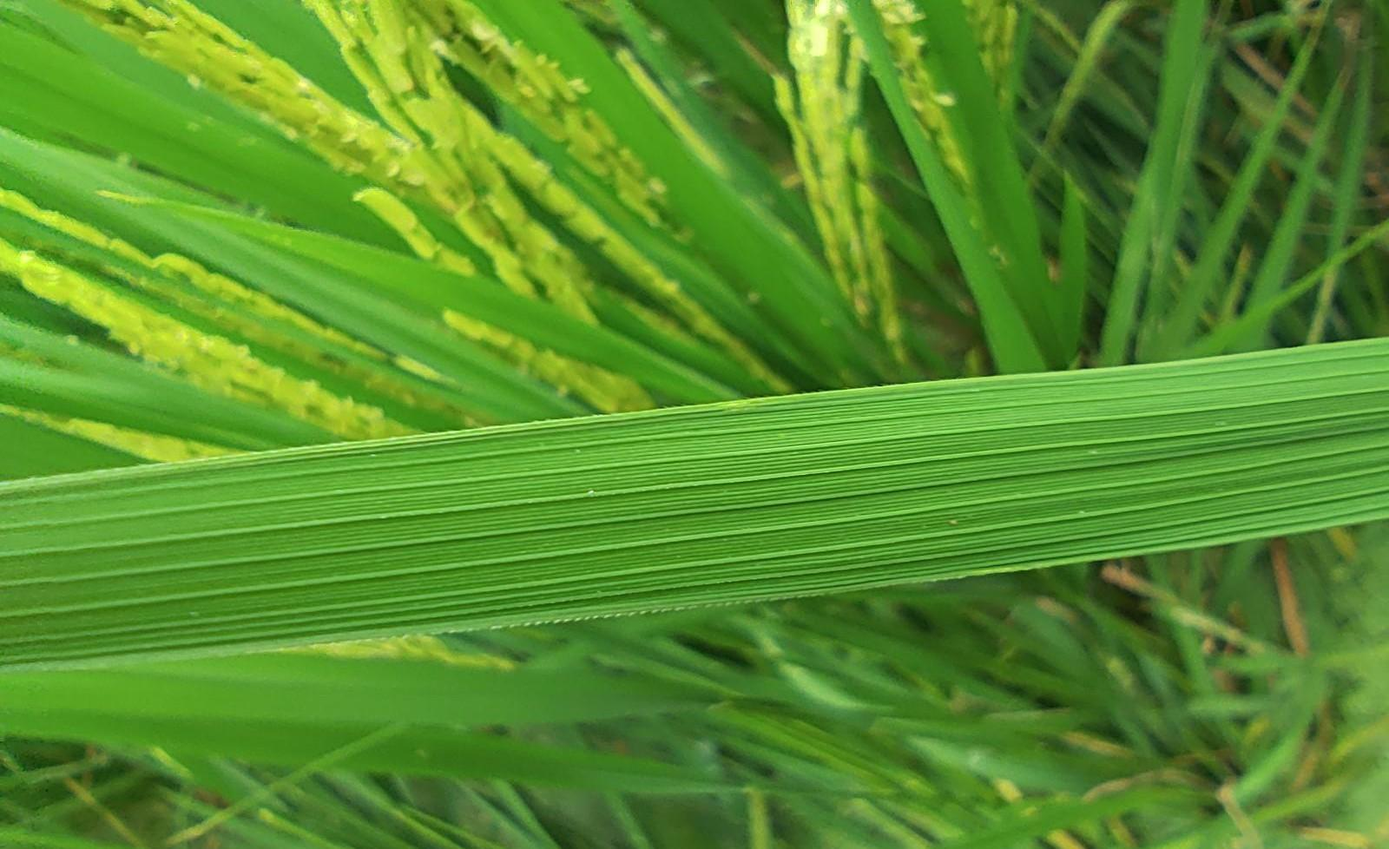Healthy: (0, 337, 1388, 671)
